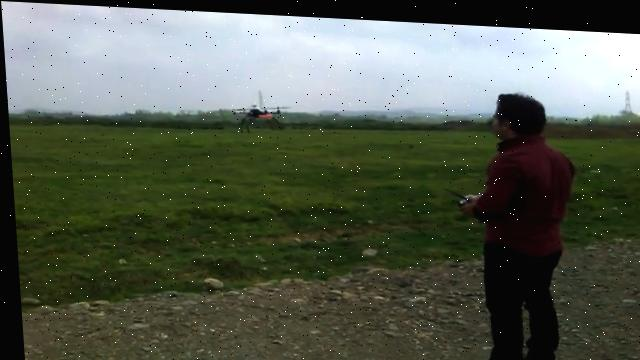drone: (226, 99, 289, 130)
